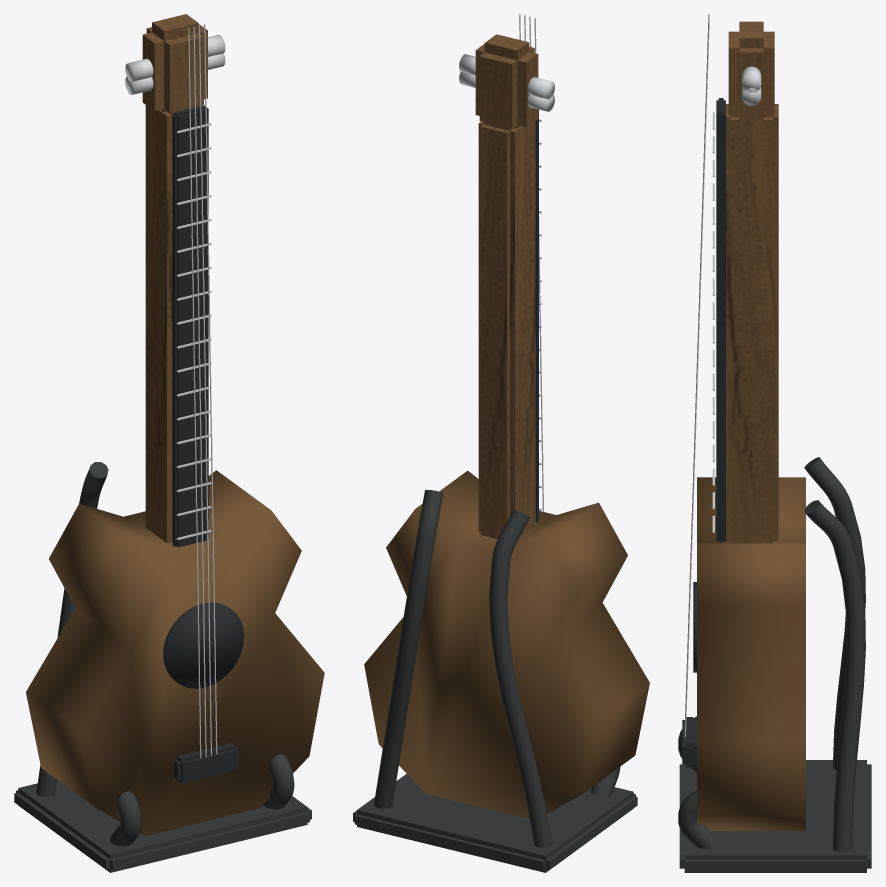
Rendered from sku_v24_ukulele.glb.
The picture shows the model from 3 angles, left to right: view 1: azimuth 30°, elevation 25°; view 2: azimuth 150°, elevation 25°; view 3: azimuth 270°, elevation 25°; orthographic projection. The views are drawn at different scales.
Visible parts, largest first — view 1: sku_v24_ukulele_CC0_Oak_veneer.002, sku_v24_ukulele_V24_satin_black.001, sku_v24_ukulele_Anodised_graphite, sku_v24_ukulele_V24_brushed_silver.001; view 2: sku_v24_ukulele_CC0_Oak_veneer.002, sku_v24_ukulele_Anodised_graphite, sku_v24_ukulele_V24_brushed_silver.001, sku_v24_ukulele_V24_satin_black.001; view 3: sku_v24_ukulele_CC0_Oak_veneer.002, sku_v24_ukulele_Anodised_graphite, sku_v24_ukulele_V24_satin_black.001, sku_v24_ukulele_V24_brushed_silver.001.
Boxes of the visible parts, left/top/right/bottom form: sku_v24_ukulele_CC0_Oak_veneer.002: left=26, top=14, right=324, bottom=835; sku_v24_ukulele_V24_satin_black.001: left=163, top=105, right=244, bottom=783; sku_v24_ukulele_Anodised_graphite: left=14, top=462, right=311, bottom=872; sku_v24_ukulele_V24_brushed_silver.001: left=125, top=24, right=225, bottom=758; sku_v24_ukulele_CC0_Oak_veneer.002: left=364, top=34, right=649, bottom=818; sku_v24_ukulele_Anodised_graphite: left=353, top=489, right=637, bottom=872; sku_v24_ukulele_V24_brushed_silver.001: left=459, top=14, right=554, bottom=511; sku_v24_ukulele_V24_satin_black.001: left=535, top=109, right=538, bottom=522; sku_v24_ukulele_CC0_Oak_veneer.002: left=697, top=21, right=805, bottom=830; sku_v24_ukulele_Anodised_graphite: left=678, top=457, right=871, bottom=872; sku_v24_ukulele_V24_satin_black.001: left=682, top=98, right=725, bottom=767; sku_v24_ukulele_V24_brushed_silver.001: left=684, top=14, right=761, bottom=737.
Bounding box in the file's own units: 0.2304 × 0.7344 × 0.1597.
4 materials, 1 textured.
